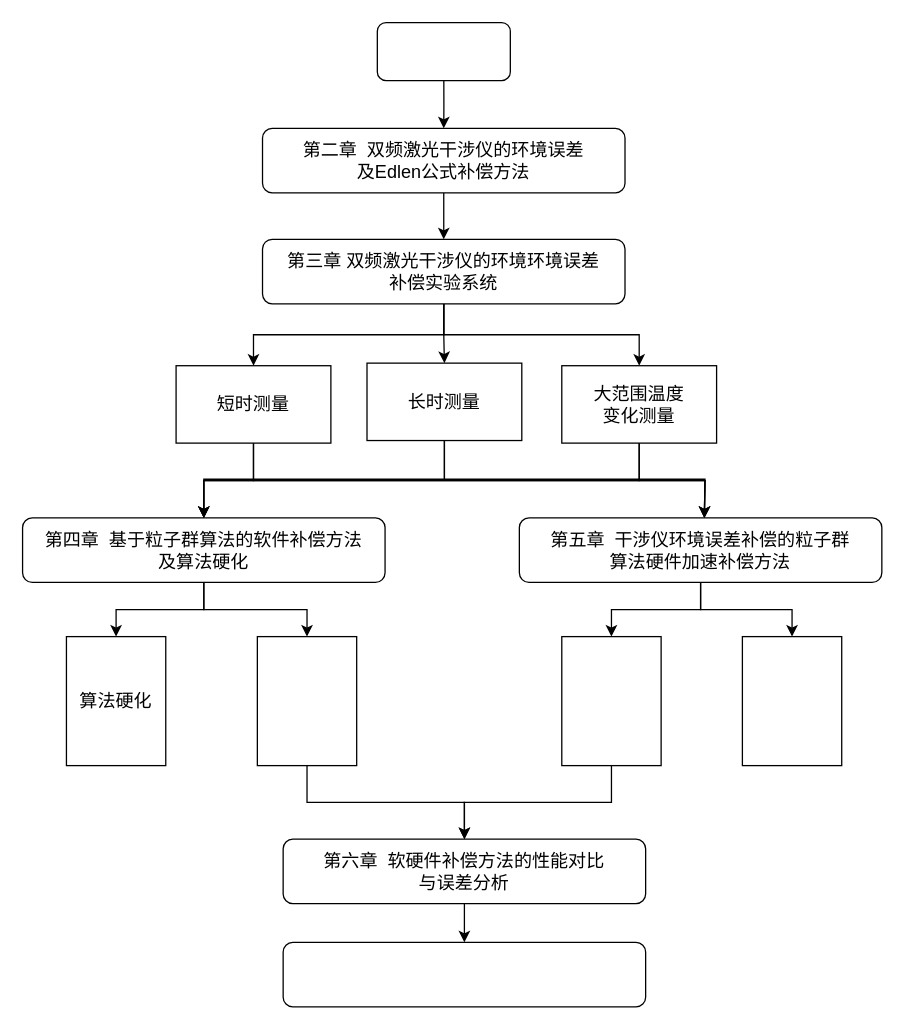
Image size: 906x1029. Some labels were removed from this diagram. The centre of each missing label's shape, as x and y in pixels:
双差分验证框架: [791,700]
整/分段式粒子群算法补偿方法: [306,700]
第一章 绪论: [443,51]
第七章 总结和展望: [464,974]
粒子群算法的硬件加速补偿系统: [611,700]
